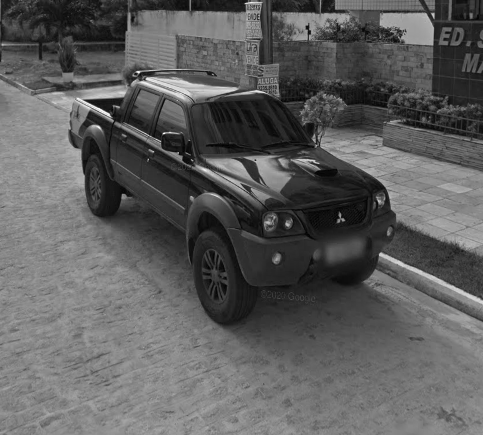car: (66, 67, 399, 326)
